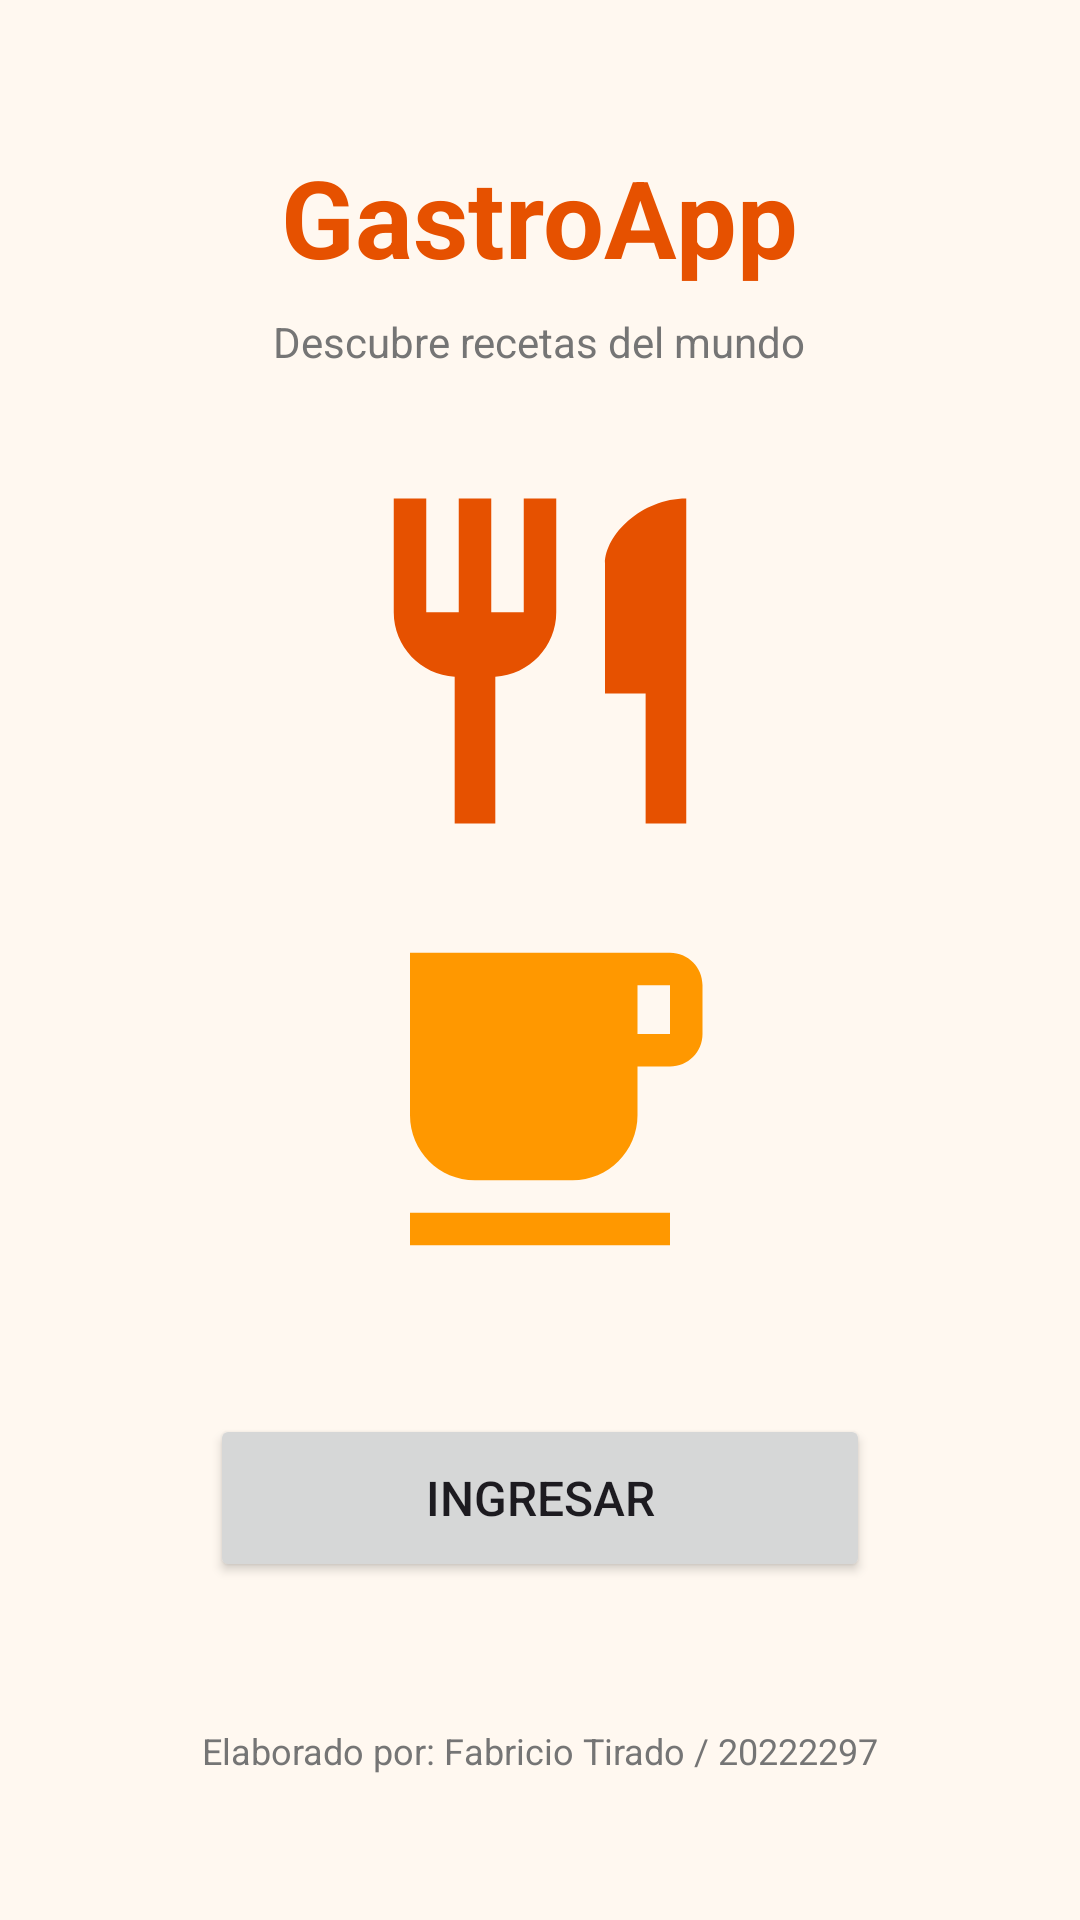

Icon click points for this 1080px×1920px phone screenshot, format (x=x, y=y):
Cubiertos: (x=540, y=661)
